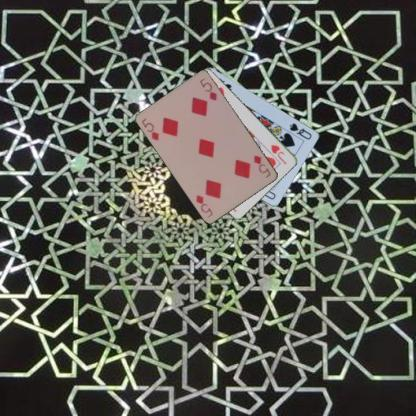5d: (139, 115, 161, 142), (251, 153, 272, 179)
Jh: (269, 142, 288, 166)
Qs: (287, 120, 313, 141)
